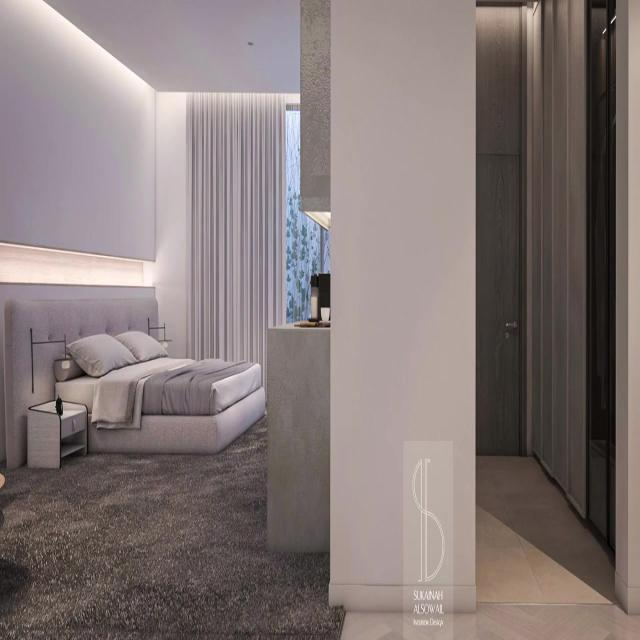obstacle: (8, 296, 266, 462), (266, 321, 330, 554)
